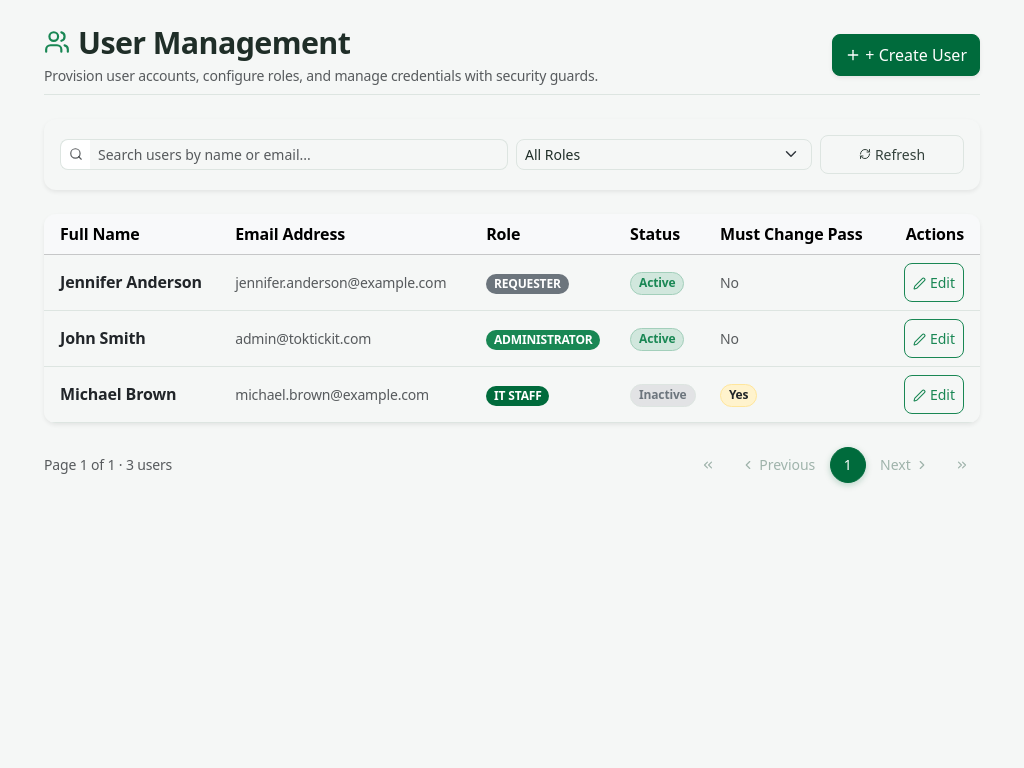
Test case: UserManagement Component (UI-05, AC-15, AC-18) › warns and disables deactivation if editing the sole active Administrator (BR-17, AC-19)
This screenshot has width=1024, height=768.
Click Edit on John Smith (id: 2)
Click the button with aria-label "Edit John Smith". click: (934, 338)
box: x1=904 y1=318 x2=964 y2=358
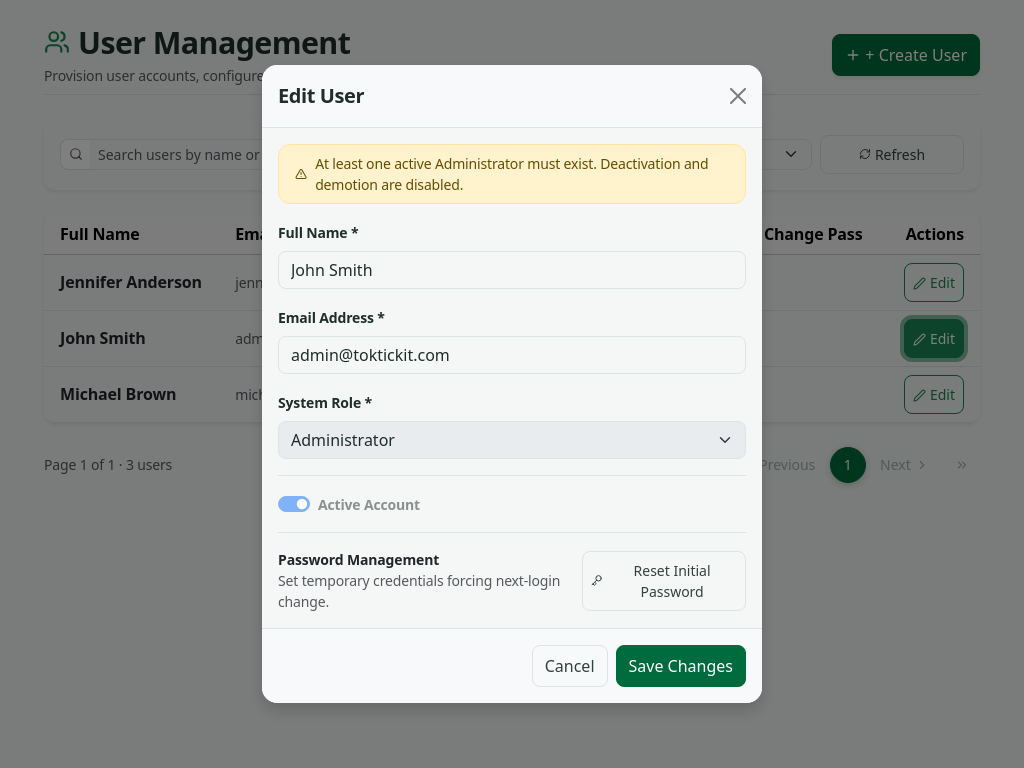
expect the text "At least one active Administrator must exist" is shown: met, box x1=315 y1=154 x2=709 y2=194
